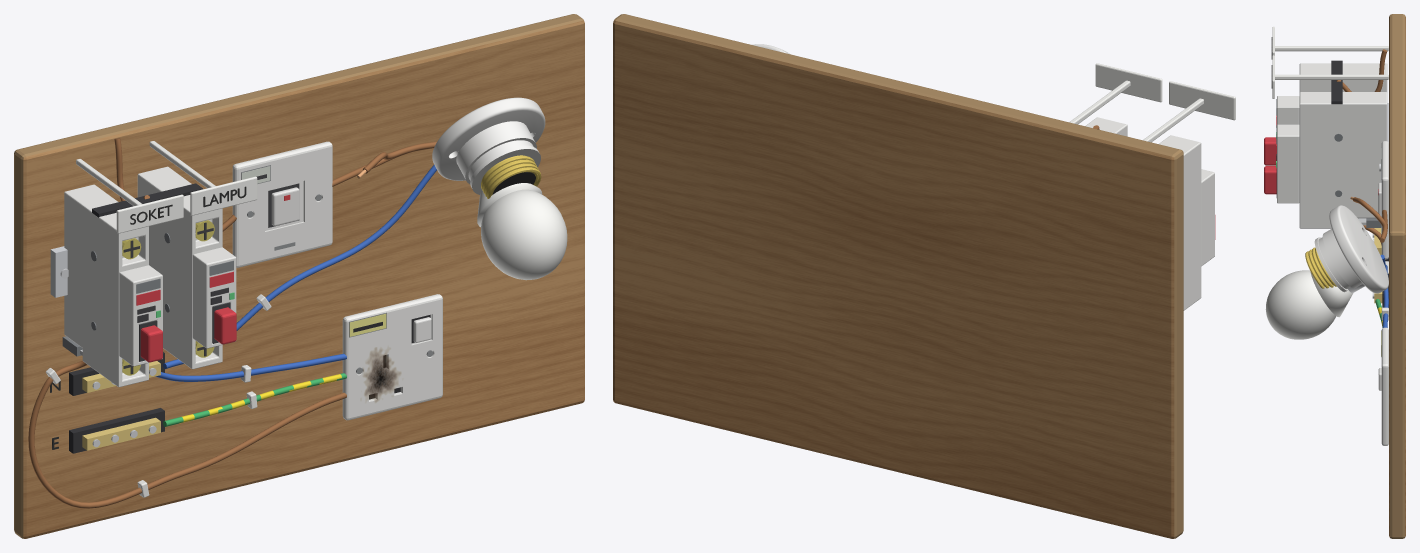
Rendered from PapanKerosakan.glb.
3 renders of one model, left to right at view 1: azimuth 30°, elevation 25°; view 2: azimuth 150°, elevation 25°; view 3: azimuth 270°, elevation 25°, orthographic. The views are drawn at different scales.
Parts seen in each view (by area): view 1: Papan6, MCB_Soket, MCB_Lampu, Soket, Suis, PemegangLampu, Mentol, Wayar_SoketL, BarBumi, LabelLampu, LabelSoket, Wayar_LampuN (+9 smaller); view 2: Papan6, MCB_Soket, LabelLampu, LabelSoket; view 3: MCB_Lampu, Papan6, PemegangLampu, Mentol, MCB_Soket, Soket, Suis, LabelLampu, LabelSoket, BusbarSikat, Togol_MCBLampu, Togol_MCBSoket (+2 smaller).
Boxes of the visible parts, box(x1,y1,x2,y2) form: Papan6: box(14, 14, 584, 538); MCB_Soket: box(62, 184, 162, 387); MCB_Lampu: box(137, 166, 236, 369); Soket: box(342, 294, 442, 420); Suis: box(232, 141, 332, 267); PemegangLampu: box(432, 97, 545, 198); Mentol: box(477, 183, 567, 280); Wayar_SoketL: box(28, 360, 346, 508); BarBumi: box(69, 408, 164, 453); LabelLampu: box(149, 141, 257, 215); LabelSoket: box(76, 159, 183, 233); Wayar_LampuN: box(163, 164, 436, 369); Papan6: box(613, 14, 1183, 538); MCB_Soket: box(1158, 135, 1214, 310); LabelLampu: box(1069, 63, 1162, 124); LabelSoket: box(1143, 81, 1235, 142); MCB_Lampu: box(1276, 92, 1387, 228); Papan6: box(1389, 14, 1405, 538); PemegangLampu: box(1305, 205, 1388, 293); Mentol: box(1265, 270, 1364, 339); MCB_Soket: box(1276, 63, 1387, 138); Soket: box(1378, 327, 1388, 445); Suis: box(1378, 141, 1388, 259); LabelLampu: box(1272, 55, 1388, 98); LabelSoket: box(1272, 26, 1388, 55); BusbarSikat: box(1331, 60, 1342, 104); Togol_MCBLampu: box(1264, 166, 1276, 194); Togol_MCBSoket: box(1264, 137, 1276, 165).
Size of the model in its own units: 0.46 by 0.3 by 0.1255.
Materials: 38 (2 with a texture image).
